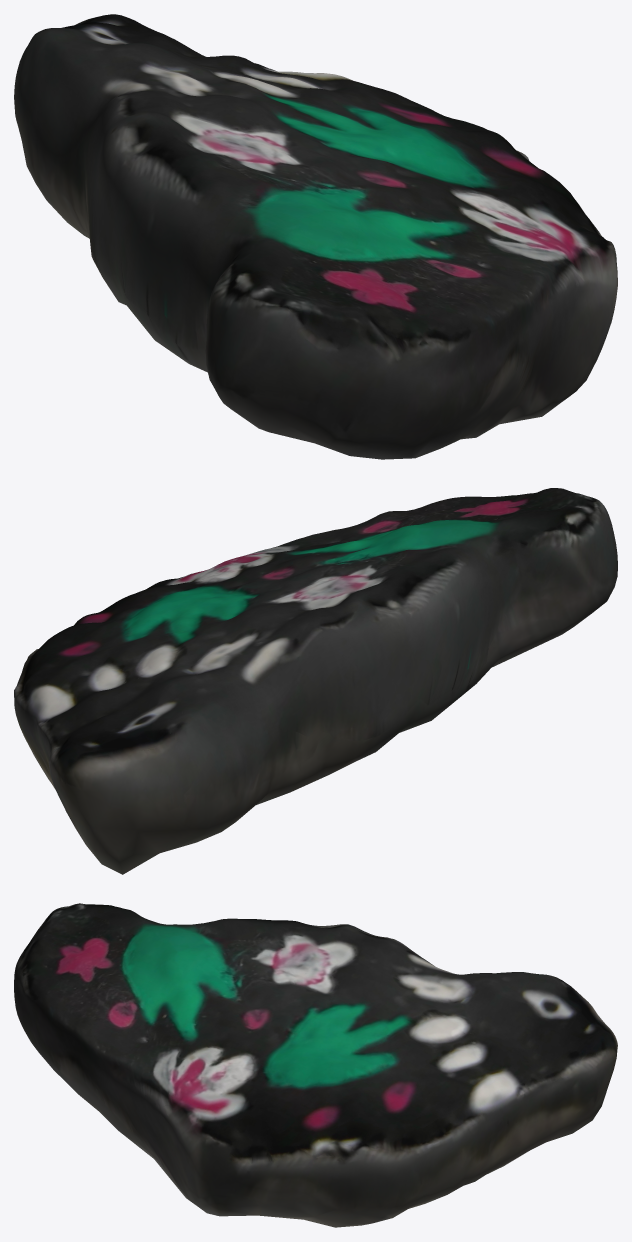
3 renders of one model, top to bottom at view 1: azimuth 30°, elevation 25°; view 2: azimuth 150°, elevation 25°; view 3: azimuth 270°, elevation 25°, orthographic. The views are drawn at different scales.
Bounding box in the file's own units: 0.3153 × 0.1755 × 0.4803.
1 material, 1 textured.
